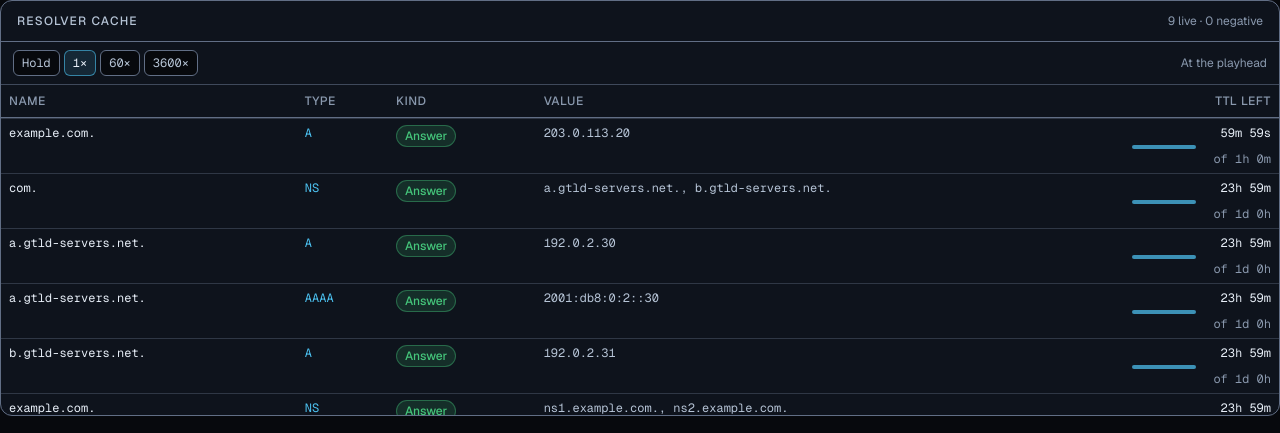
Test: CachePanel countdown › counts down, and expires an entry once its TTL is gone
Expected: the text "expired" is not shown
# 3600x: an hour of cache time per real second, so even the two-day NS records go.
Click the button "3600×" at x=171, y=63, box [144,50,198,76]
Wait 3000 ms
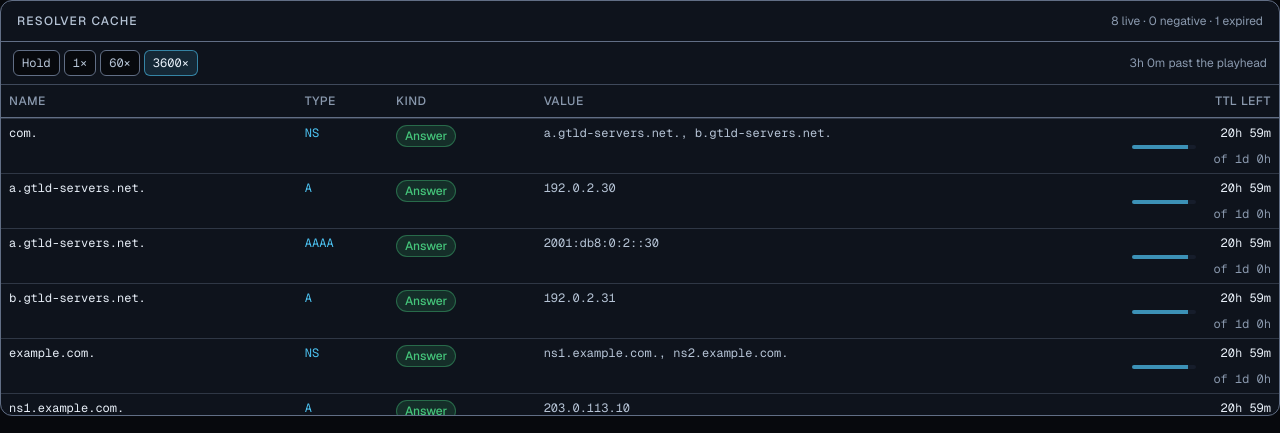
Now the text "3h 0m past the playhead" is shown, box [1130,55,1267,71]
